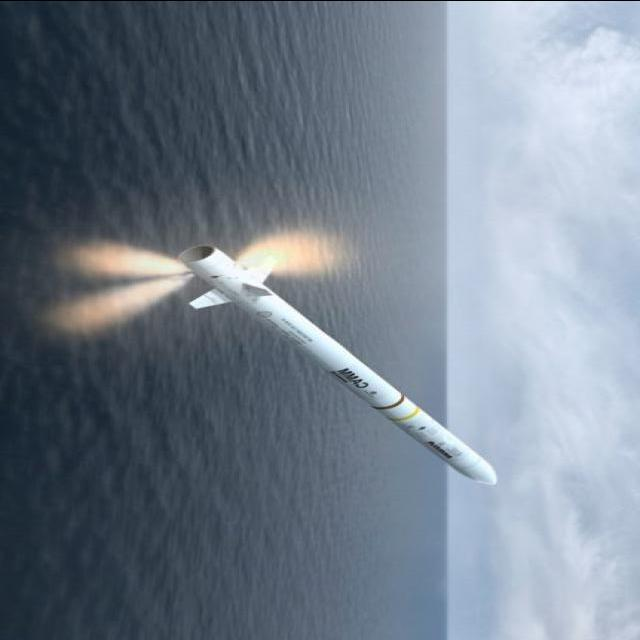missile: (183, 237, 534, 492)
